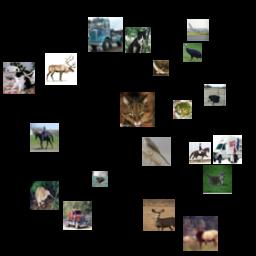airplane: (187, 19, 209, 41)
bird: (142, 137, 171, 166), (30, 181, 59, 210), (204, 84, 226, 106), (183, 43, 202, 62), (153, 60, 169, 76)
cat: (120, 92, 155, 127), (3, 62, 35, 94), (203, 165, 232, 194), (125, 27, 151, 53)
deer: (183, 216, 218, 251), (143, 199, 175, 231), (45, 53, 77, 85)
frog: (173, 100, 192, 119), (92, 171, 108, 187)
truck: (88, 17, 123, 52), (63, 201, 92, 230), (213, 135, 242, 164)
